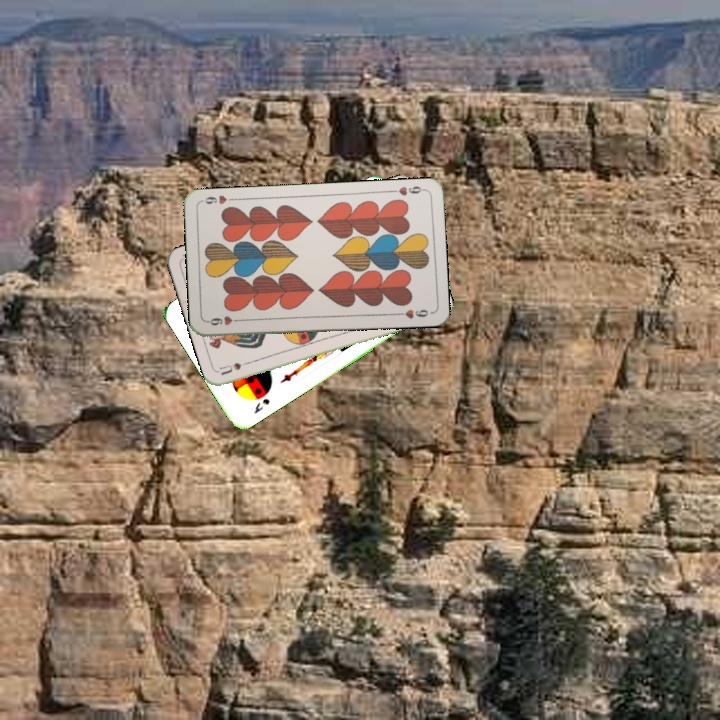H9: (204, 312, 245, 328), (387, 182, 427, 198)
SK: (250, 394, 272, 416)
SU: (216, 356, 257, 378)
